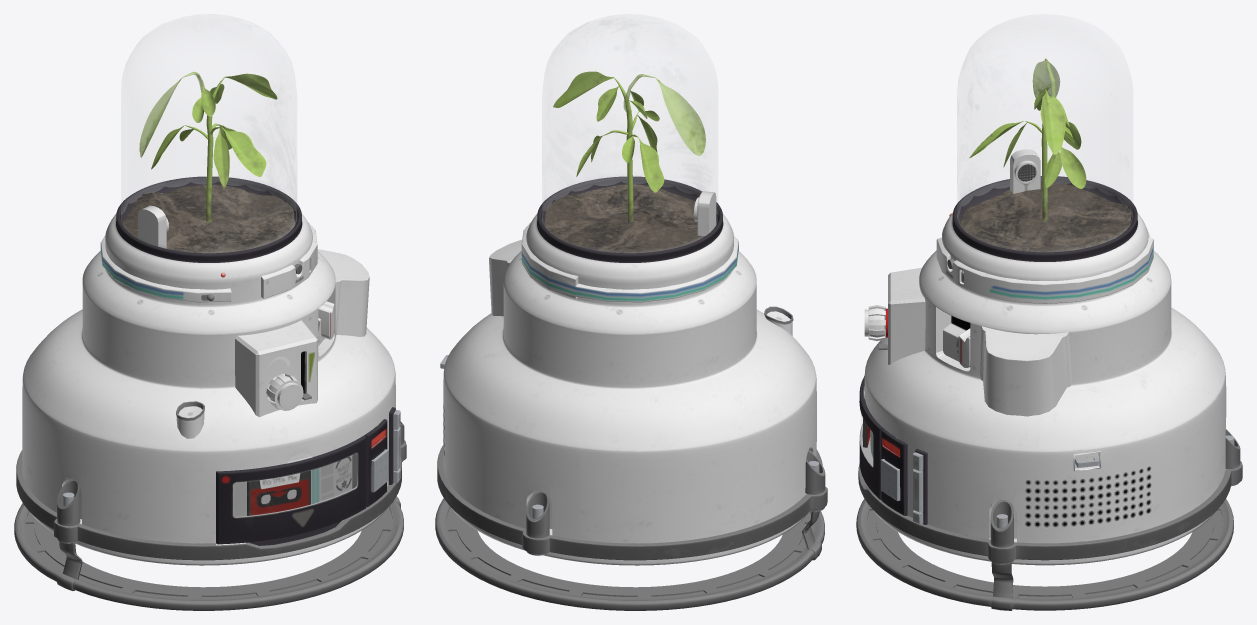
3 renders of one model, left to right at view 1: azimuth 30°, elevation 25°; view 2: azimuth 150°, elevation 25°; view 3: azimuth 270°, elevation 25°, orthographic.
Parts seen in each view (by area): view 1: MobileHabitat; view 2: MobileHabitat; view 3: MobileHabitat.
Part boxes in pixels (<box>): MobileHabitat: <box>14,14,406,610</box>; MobileHabitat: <box>435,14,827,610</box>; MobileHabitat: <box>856,26,1242,610</box>.
Size of the model in its own units: 0.0502 by 0.0697 by 0.0484.
Materials: 1 (1 with a texture image).
